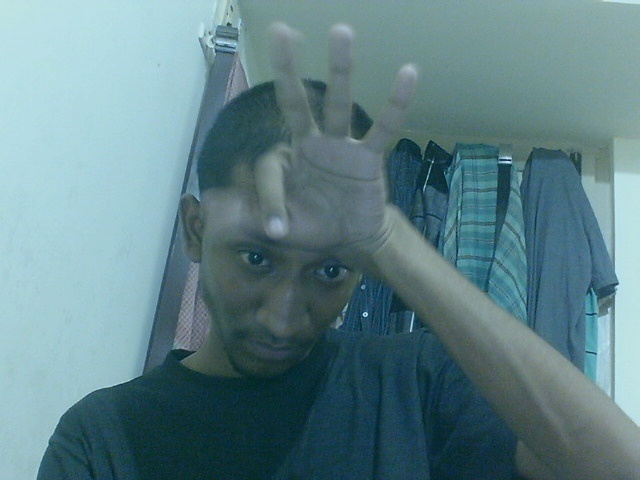hand: (248, 21, 426, 268)
